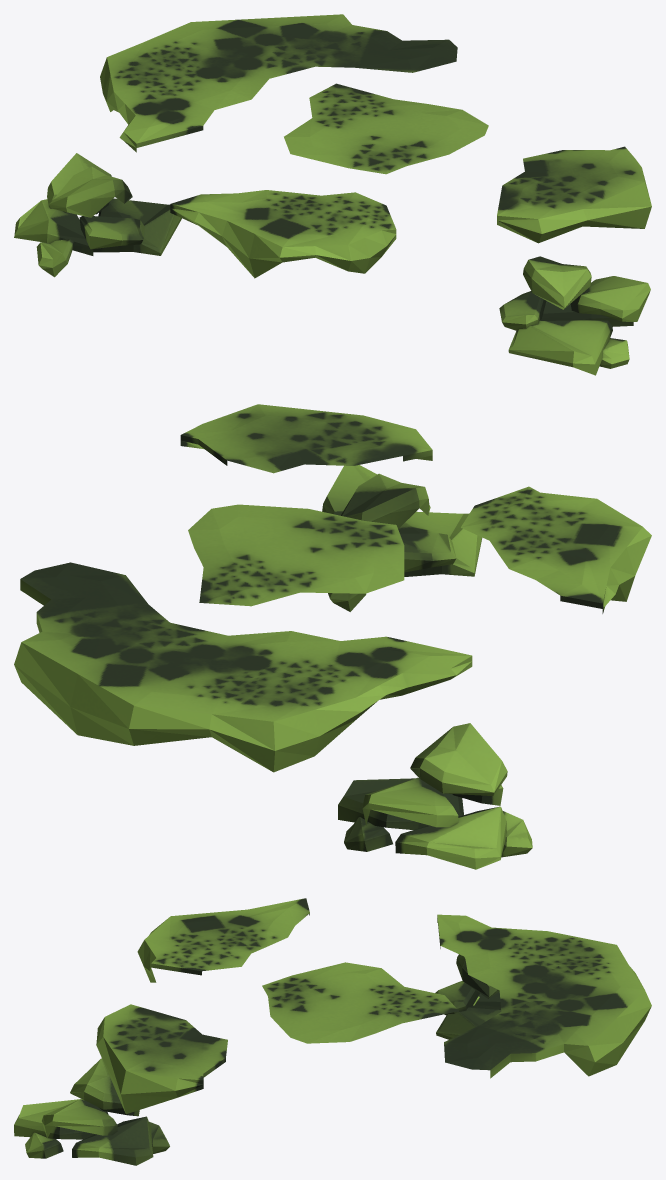
File: Plant_01.FBX
3 views of the same model, one above another, from view 1: azimuth 30°, elevation 25°; view 2: azimuth 150°, elevation 25°; view 3: azimuth 270°, elevation 25° (orthographic). The views are drawn at different scales.
Visible parts, largest first — view 1: Plant_01; view 2: Plant_01; view 3: Plant_01.
Boxes of the visible parts, bbox=[...] form: Plant_01: bbox=[14, 14, 651, 375]; Plant_01: bbox=[14, 404, 651, 869]; Plant_01: bbox=[14, 898, 651, 1165].
Size of the model in its own units: 19.74 by 5.75 by 26.58.
